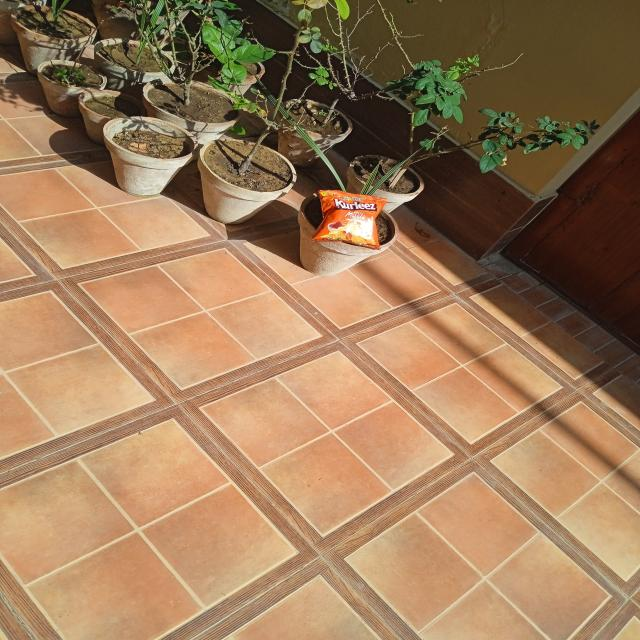Plastic: (316, 185, 384, 248)
